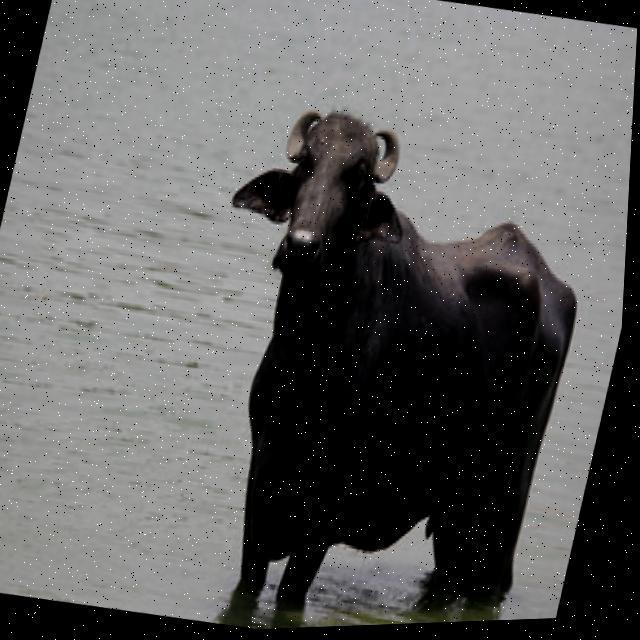Buffalo: (138, 76, 621, 634)
